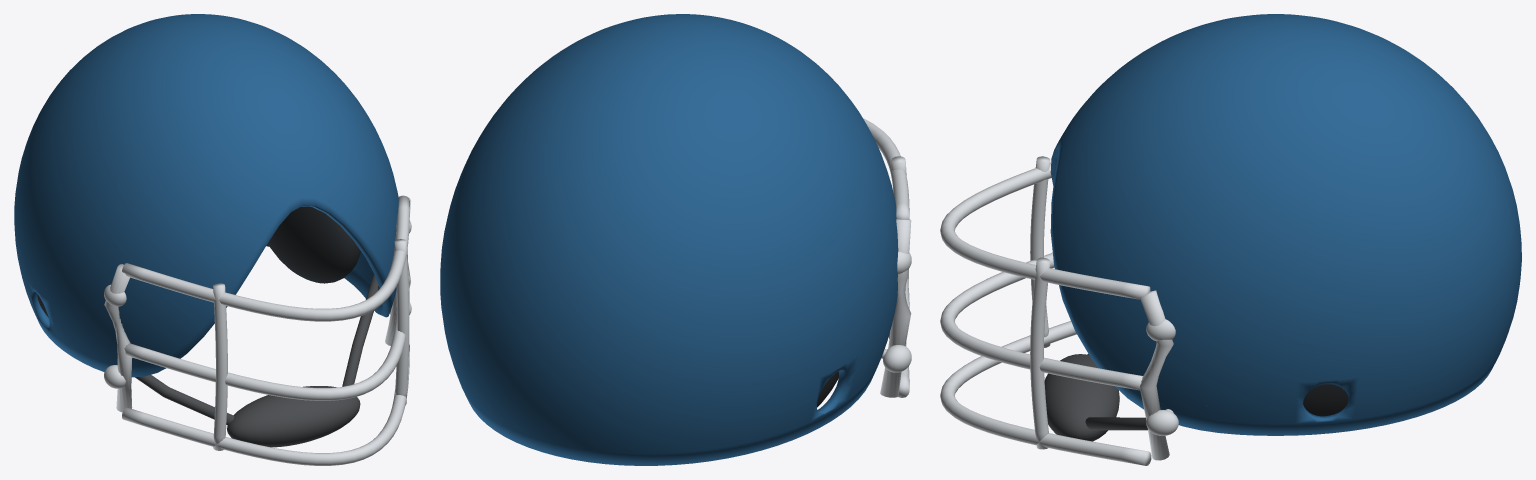
3 views of the same model, side by side, from view 1: azimuth 30°, elevation 25°; view 2: azimuth 150°, elevation 25°; view 3: azimuth 270°, elevation 25° (orthographic). The views are drawn at different scales.
Visible parts, largest first — view 1: Protective shell with complete inner wall, Chin cup, Right cheek liner, Faceguard horizontal welded rail 0, Faceguard horizontal welded rail 2, Faceguard horizontal welded rail 1, Faceguard vertical welded stay 0, Side faceguard mounting bracket -1, Faceguard vertical welded stay 1, Chin retention strap 1, Chin retention strap -1; view 2: Protective shell with complete inner wall, Side faceguard mounting bracket -1, Faceguard horizontal welded rail 0, Faceguard mounting hardware.001; view 3: Protective shell with complete inner wall, Faceguard horizontal welded rail 0, Faceguard horizontal welded rail 2, Faceguard horizontal welded rail 1, Chin cup, Faceguard vertical welded stay 1, Side faceguard mounting bracket 1, Faceguard vertical welded stay 0, Right cheek liner, Chin retention strap 1, Faceguard mounting hardware.003.
Boxes of the visible parts, box(x1,y1,x2,y2) form: Protective shell with complete inner wall: box(14, 14, 398, 377); Chin cup: box(227, 386, 360, 447); Right cheek liner: box(268, 206, 360, 283); Faceguard horizontal welded rail 0: box(122, 195, 409, 321); Faceguard horizontal welded rail 2: box(122, 344, 409, 465); Faceguard horizontal welded rail 1: box(124, 279, 409, 400); Faceguard vertical welded stay 0: box(213, 283, 227, 450); Side faceguard mounting bracket -1: box(104, 264, 132, 412); Faceguard vertical welded stay 1: box(394, 239, 409, 405); Chin retention strap 1: box(342, 273, 378, 386); Chin retention strap -1: box(91, 346, 234, 425); Protective shell with complete inner wall: box(440, 14, 898, 465); Side faceguard mounting bracket -1: box(880, 219, 911, 397); Faceguard horizontal welded rail 0: box(863, 118, 909, 219); Faceguard mounting hardware.001: box(883, 345, 911, 372); Protective shell with complete inner wall: box(1050, 14, 1521, 435); Faceguard horizontal welded rail 0: box(940, 162, 1150, 299); Faceguard horizontal welded rail 2: box(940, 321, 1151, 465); Faceguard horizontal welded rail 1: box(940, 253, 1142, 390); Chin cup: box(1044, 354, 1119, 441); Faceguard vertical welded stay 1: box(1030, 257, 1050, 449); Side faceguard mounting bracket 1: box(1140, 290, 1173, 460); Faceguard vertical welded stay 0: box(1030, 156, 1050, 347); Right cheek liner: box(1303, 384, 1348, 416); Chin retention strap 1: box(1085, 405, 1207, 430); Faceguard mounting hardware.003: box(1146, 410, 1178, 435).
Size of the model in its own units: 0.2599 by 0.265 by 0.3544.
